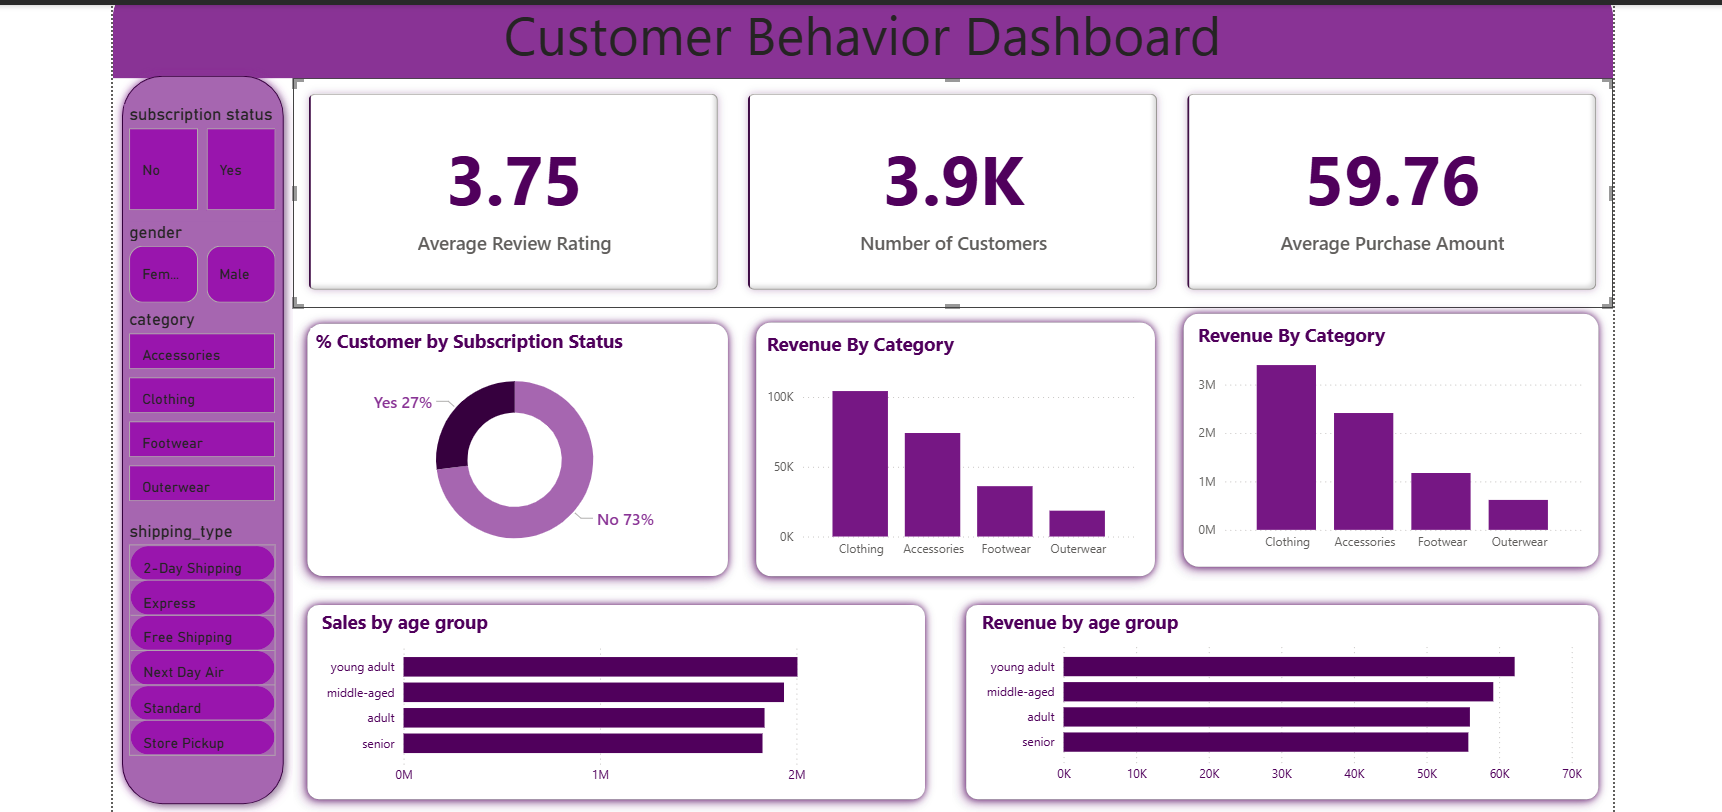

The dashboard page shown, as its layout file describes it:
{"tool":"powerbi","page":{"name":"Page 1","canvas":[1500,820],"ordinal":0},"visuals":[{"type":"cardVisual","fields":{"Data":["public customer.average review rating","public customer.number of customers","public customer.average purcahse amount"]},"box":[179.7,85.5,1320.3,229],"z":0},{"type":"shape","box":[0,0,1500,85.5],"z":1000},{"type":"textbox","box":[24.6,0,1449.3,85.5],"z":2000},{"type":"shape","box":[179.7,315.9,449.3,281.2],"z":3000},{"type":"donutChart","title":"% Customer by Subscription Status","fields":{"Category":["public customer.subscription_status"],"Y":["CountNonNull(public customer.customer_id)"]},"box":[197.1,334.8,408.7,239.1],"z":4000},{"type":"shape","box":[629,314.5,427.5,282.6],"z":5000},{"type":"shape","box":[1056.5,314.5,443.5,282.6],"z":6000},{"type":"clusteredColumnChart","title":"Revenue By Category","fields":{"Y":["Sum(public customer.purchase_amount)"],"Category":["public customer.category"]},"box":[649.3,337.7,379.7,236.2],"z":7000},{"type":"clusteredColumnChart","title":"Revenue By Category","fields":{"Category":["public customer.category"],"Y":["Sum(public customer.customer_id)"]},"box":[1079.7,334.8,394.2,239.1],"z":8000},{"type":"shape","box":[0,73.9,179.7,746.4],"z":9000},{"type":"advancedSlicerVisual","fields":{"Values":["public customer.subscription_status"]},"box":[11.6,111.6,156.5,111.6],"z":10000},{"type":"advancedSlicerVisual","fields":{"Values":["public customer.gender"]},"box":[11.6,229,156.5,87],"z":11000},{"type":"advancedSlicerVisual","fields":{"Values":["public customer.category"]},"box":[11.6,315.9,156.5,198.6],"z":12000},{"type":"advancedSlicerVisual","fields":{"Values":["public customer.shipping_type"]},"box":[11.6,527.5,156.5,243.5],"z":13000},{"type":"shape","box":[179.7,597.1,646.4,223.2],"z":15000},{"type":"clusteredBarChart","title":"Sales by age group","fields":{"Category":["public customer.age_group"],"Y":["Sum(public customer.customer_id)"]},"box":[204.3,615.9,597.1,184.1],"z":16000},{"type":"shape","box":[839.1,597.1,660.9,223.2],"z":16001},{"type":"clusteredBarChart","title":"Revenue by age group","fields":{"Category":["public customer.age_group"],"Y":["Sum(public customer.purchase_amount)"]},"box":[863.8,615.9,610.1,182.6],"z":16002}]}

Visuals, with their boxes in screenshot pixels (x1, y1, x2, y2):
cardVisual - public customer.average review rating x public customer.number of customers: x1=289, y1=78, x2=1626, y2=309
shape: x1=108, y1=0, x2=1626, y2=78
textbox: x1=133, y1=0, x2=1599, y2=78
shape: x1=289, y1=311, x2=744, y2=595
"% Customer by Subscription Status" donutChart: x1=307, y1=330, x2=721, y2=572
shape: x1=744, y1=309, x2=1177, y2=595
shape: x1=1177, y1=309, x2=1626, y2=595
"Revenue By Category" clusteredColumnChart: x1=765, y1=333, x2=1149, y2=572
"Revenue By Category" clusteredColumnChart: x1=1200, y1=330, x2=1599, y2=572
shape: x1=108, y1=66, x2=289, y2=811
advancedSlicerVisual - public customer.subscription_status: x1=119, y1=104, x2=278, y2=217
advancedSlicerVisual - public customer.gender: x1=119, y1=223, x2=278, y2=311
advancedSlicerVisual - public customer.category: x1=119, y1=311, x2=278, y2=512
advancedSlicerVisual - public customer.shipping_type: x1=119, y1=525, x2=278, y2=771
shape: x1=289, y1=595, x2=944, y2=811
"Sales by age group" clusteredBarChart: x1=314, y1=614, x2=919, y2=801
shape: x1=957, y1=595, x2=1626, y2=811
"Revenue by age group" clusteredBarChart: x1=982, y1=614, x2=1599, y2=799
